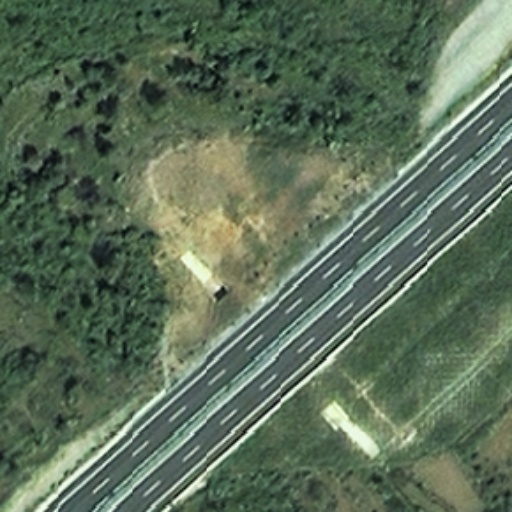landslide: (146, 139, 374, 379)
